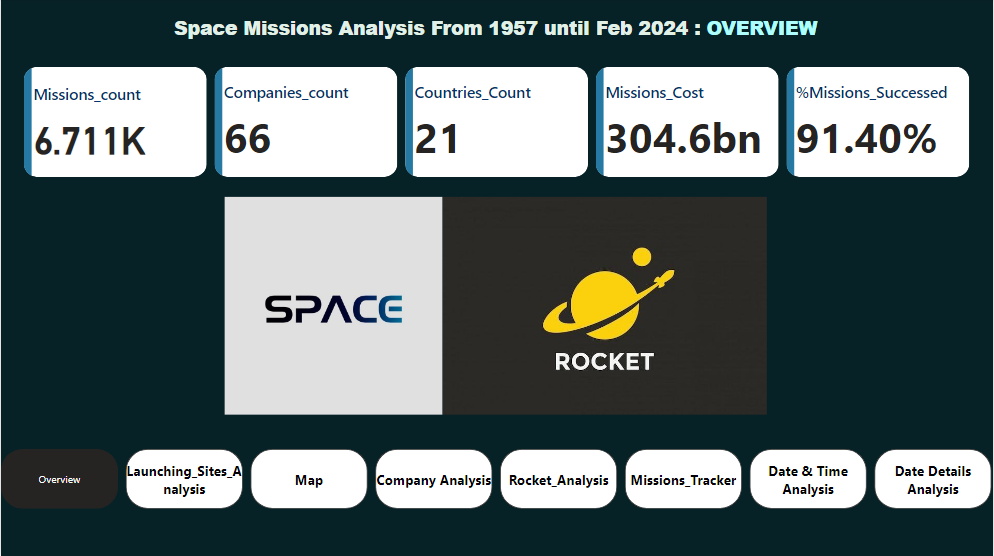

The page's visual inventory and layout, read from the dashboard file:
{"tool":"powerbi","page":{"name":"Overview ","canvas":[1280,720],"ordinal":0},"visuals":[{"type":"textbox","box":[176.1,14.9,925.4,52.2],"z":0},{"type":"image","box":[282.9,250,292.1,290.8],"z":0,"group":"g1"},{"type":"cardVisual","fields":{"Data":["KPIs.num_missions","KPIs.num_companies","KPIs.num_country_launch","KPIs.missions_cost","KPIs.%Missions_Successed"]},"box":[23.9,82.1,1232.8,152.2],"z":1000},{"type":"image","box":[565.8,250,428.9,290.8],"z":1000,"group":"g1"},{"type":"pageNavigator","box":[0,581.1,1279.7,77],"z":2000},{"type":"group","id":"g1","title":"Group 1","box":[282.9,250,711.8,290.8],"z":3002}]}

Visuals, with their boxes in screenshot pixels (x1, y1, x2, y2), scaled from the page's 1280x720 canvas onto the 994x556 screenshot:
textbox: region(137, 12, 855, 52)
image: region(220, 193, 447, 418)
cardVisual - KPIs.num_missions x KPIs.num_companies: region(19, 63, 976, 181)
image: region(439, 193, 772, 418)
pageNavigator: region(0, 449, 993, 508)
"Group 1" group: region(220, 193, 772, 418)
